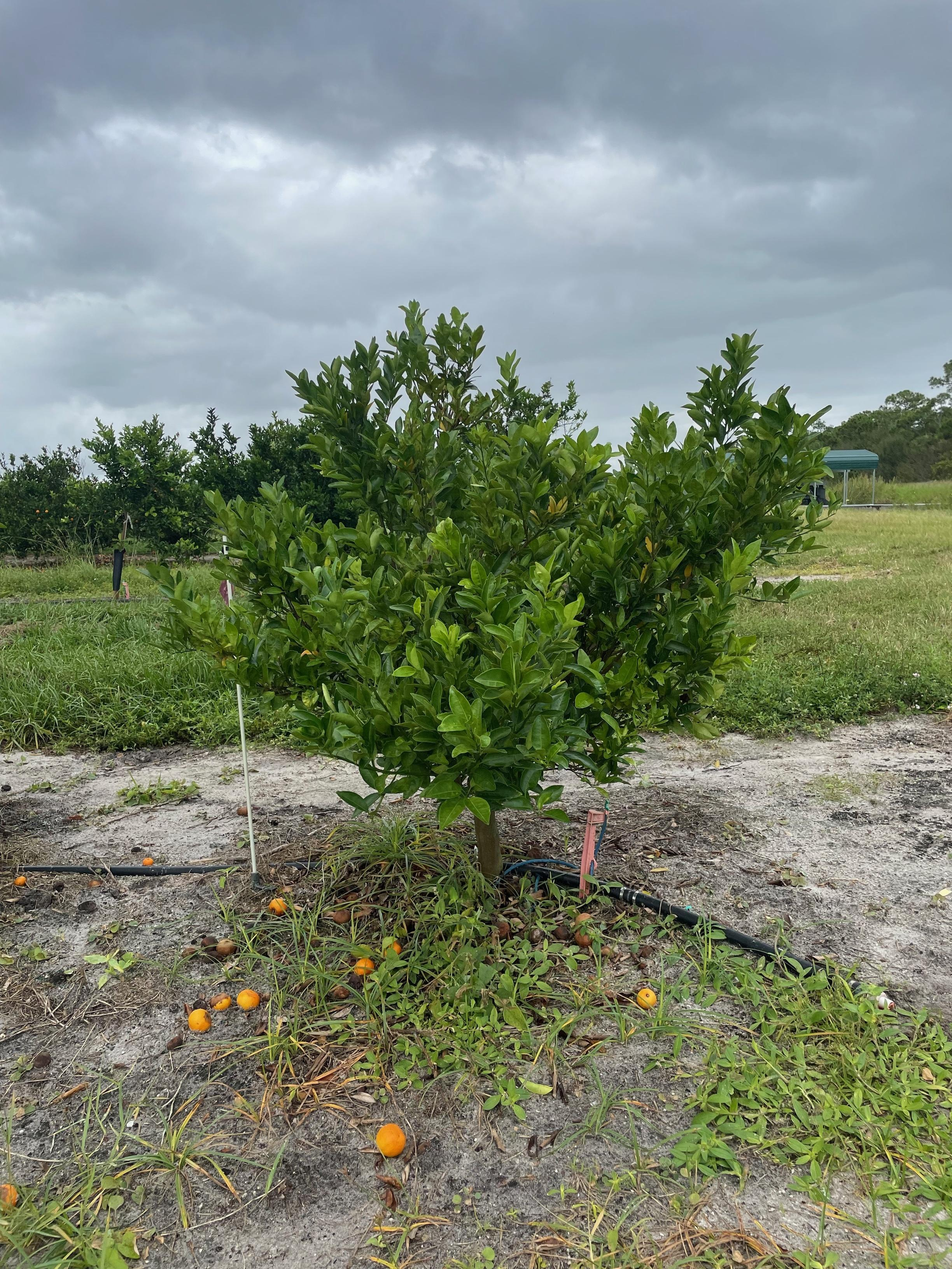fruit_on_ground: (299, 646, 322, 668)
fruit_on_tree: (373, 1120, 410, 1160), (632, 984, 661, 1012), (0, 1179, 22, 1212), (186, 1007, 213, 1033), (235, 986, 262, 1011), (350, 956, 378, 980), (208, 989, 233, 1012), (573, 926, 597, 948), (548, 921, 571, 943), (380, 936, 403, 958), (266, 896, 290, 917), (572, 911, 596, 931), (328, 983, 352, 1002), (215, 937, 237, 957), (330, 907, 352, 925), (199, 935, 220, 953), (178, 942, 198, 958), (88, 876, 103, 890), (236, 803, 250, 817), (13, 873, 28, 886), (142, 855, 155, 867)
